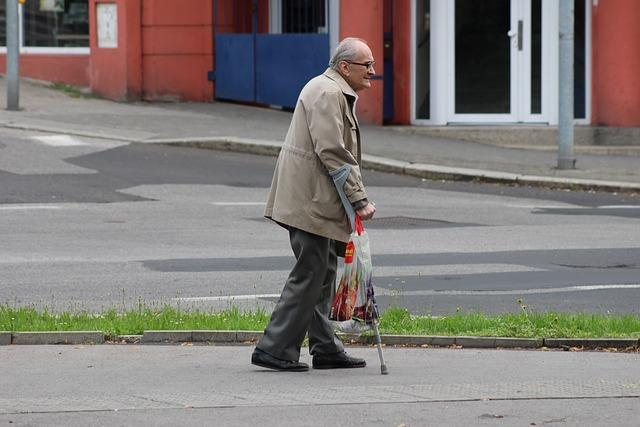crutches: (250, 37, 389, 375)
